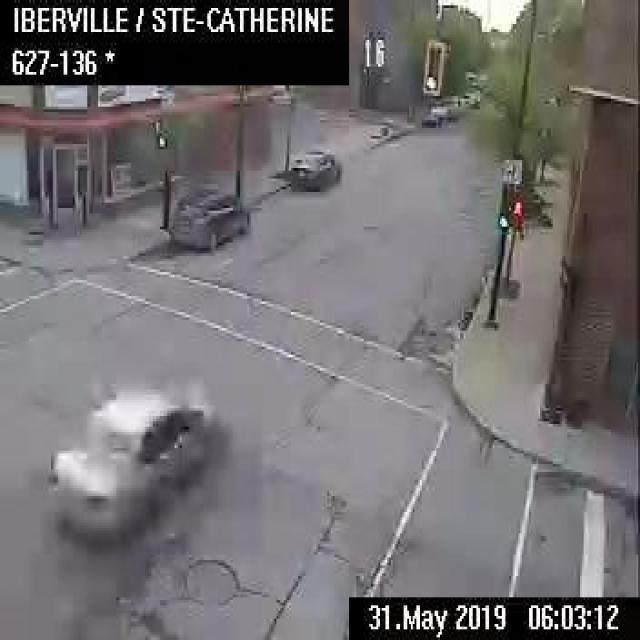vehicle: (48, 386, 218, 540), (169, 182, 250, 254), (287, 146, 341, 190), (420, 104, 450, 125)
